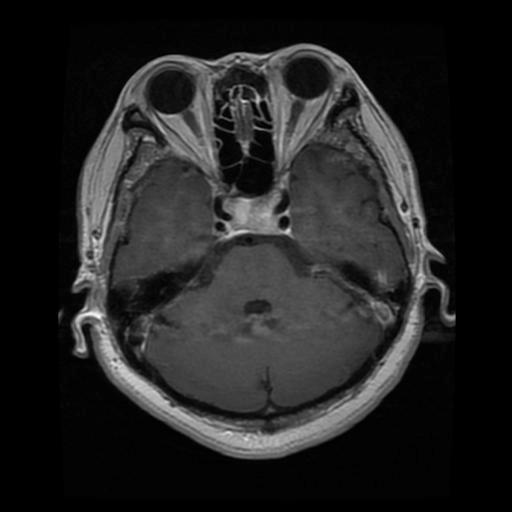Tumour-Pituitary: (204, 184, 300, 248)
